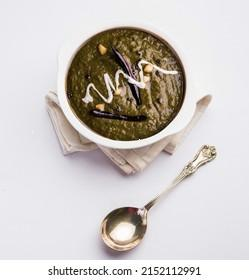saag: (68, 25, 183, 139)
